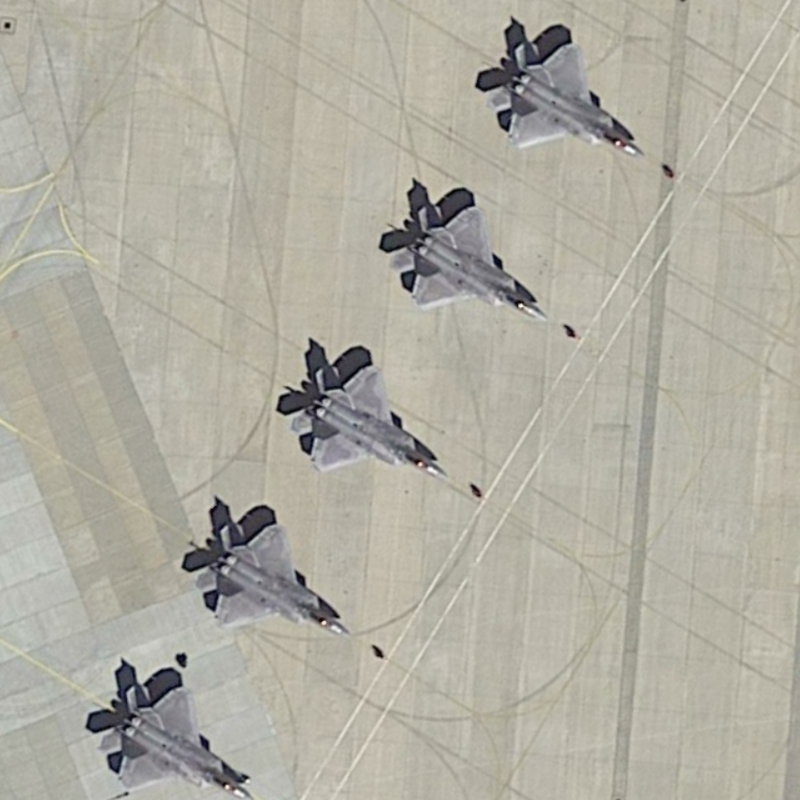A15: (378, 195, 556, 333), (274, 355, 452, 484), (475, 30, 649, 161), (199, 517, 358, 648), (93, 676, 260, 795)
